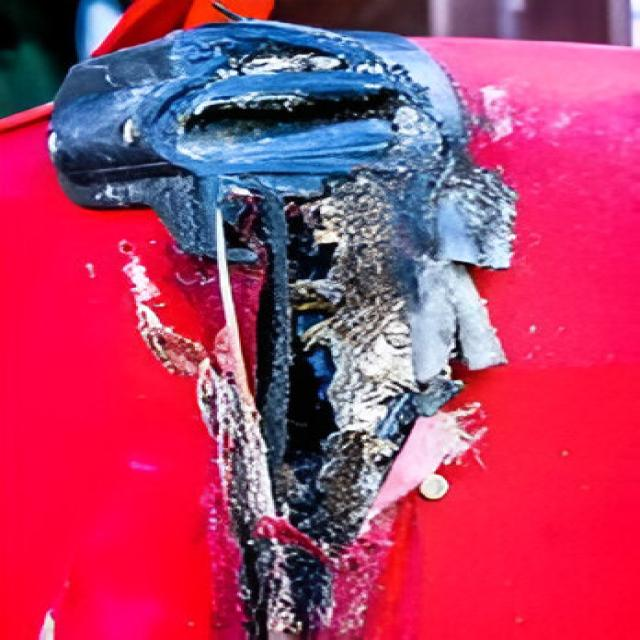Damage-bag: (50, 12, 517, 640)
